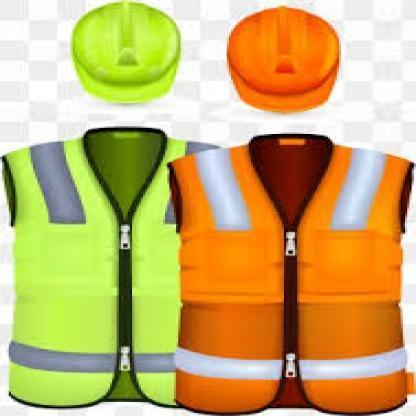helmet: (230, 6, 342, 114), (71, 2, 180, 105)
vest: (184, 136, 409, 410), (0, 130, 175, 404)
